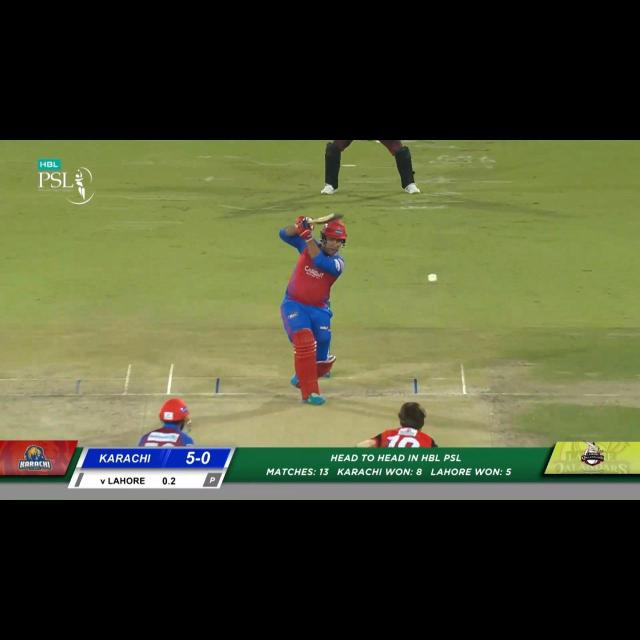bat: (306, 212, 344, 222)
toe: (333, 212, 345, 219)
